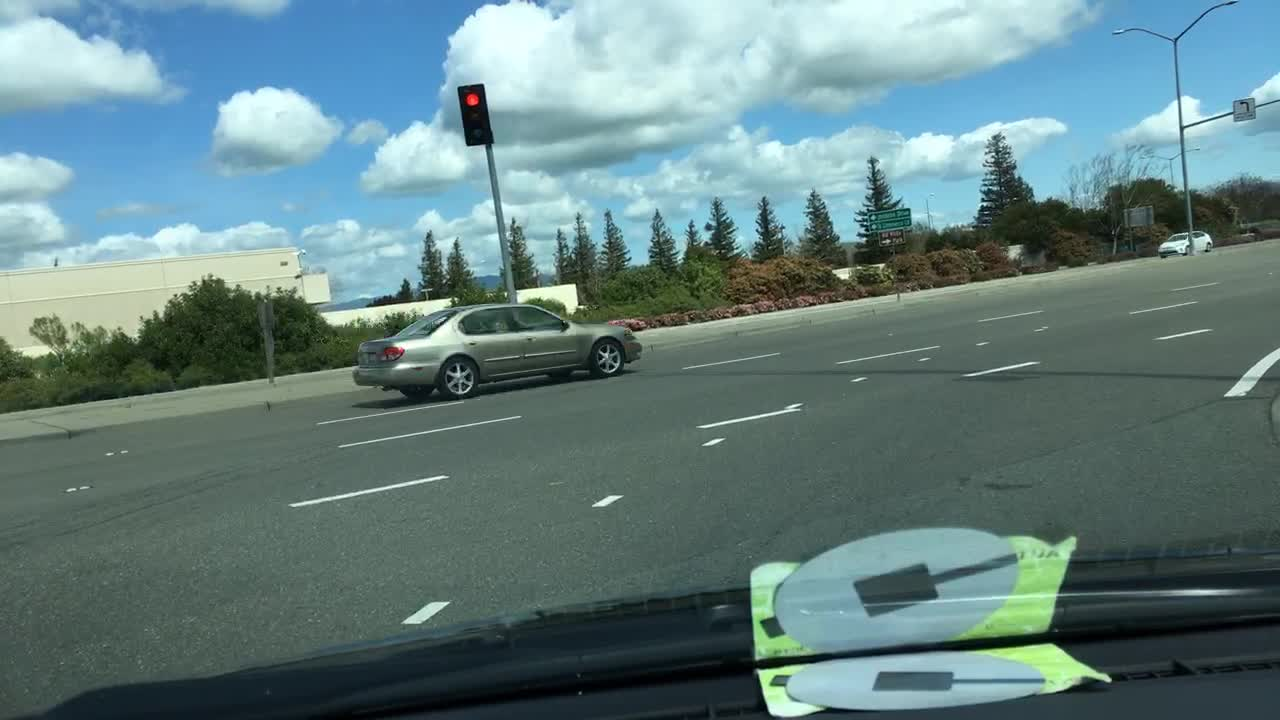car: (350, 304, 642, 401), (1160, 228, 1211, 257)
traffic light: (457, 83, 494, 144)
traffic sign: (867, 207, 910, 232), (1125, 204, 1155, 227), (1232, 97, 1255, 119), (877, 228, 903, 245)
